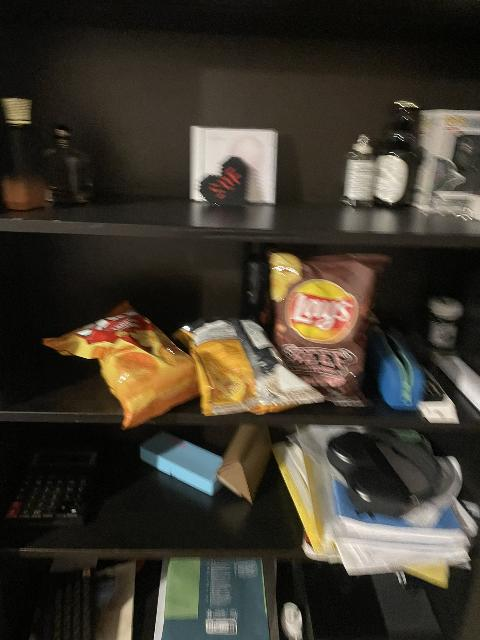Chio Cascaval 125g: (42, 301, 204, 429)
Chio Hula Hoops Cheese 70g: (176, 317, 327, 416)
Lays Beef Grilled Ribs 125g: (271, 252, 387, 400)
